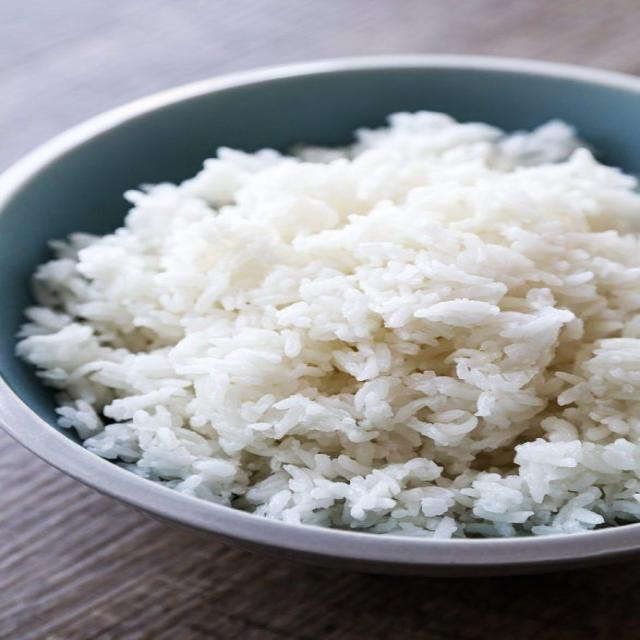Chicken -Chicken Inasal-: (113, 130, 640, 530)
